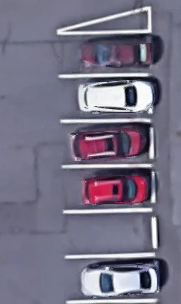Occupied: (66, 254, 154, 303), (60, 75, 150, 121), (61, 166, 152, 211), (60, 121, 150, 166), (58, 32, 150, 75)
Vacant: (64, 210, 153, 256)
